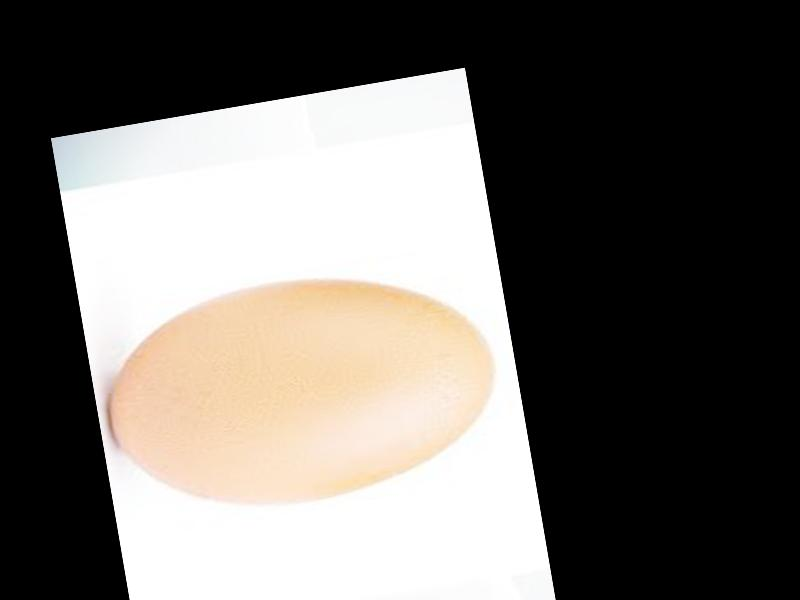Eggs: (93, 249, 509, 531)
